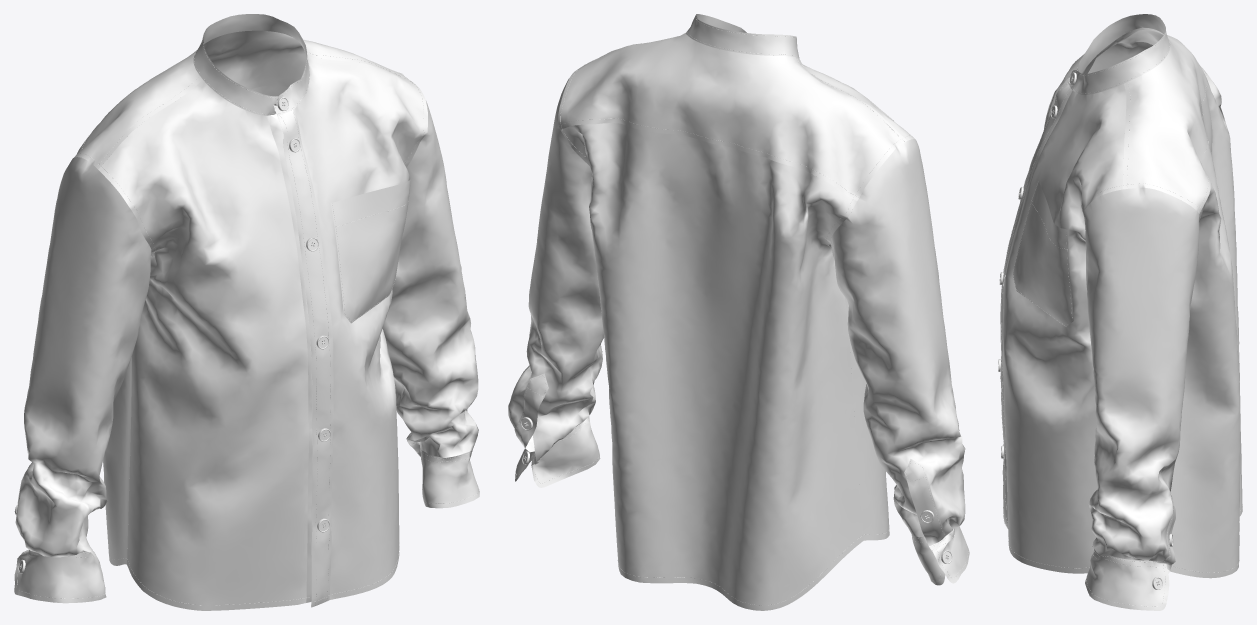
The model's file is men3.glb.
The picture shows the model from 3 angles, left to right: view 1: azimuth 30°, elevation 25°; view 2: azimuth 150°, elevation 25°; view 3: azimuth 270°, elevation 25°; orthographic projection. The views are drawn at different scales.
Visible parts, largest first — view 1: Cloth; view 2: Cloth; view 3: Cloth.
Part boxes in pixels (box(x1,y1,x2,y2)): Cloth: box(14, 14, 479, 610); Cloth: box(508, 14, 969, 610); Cloth: box(1000, 14, 1242, 610).
Size of the model in its own units: 52.9 by 61.2 by 26.34.
49 materials, 49 textured.
